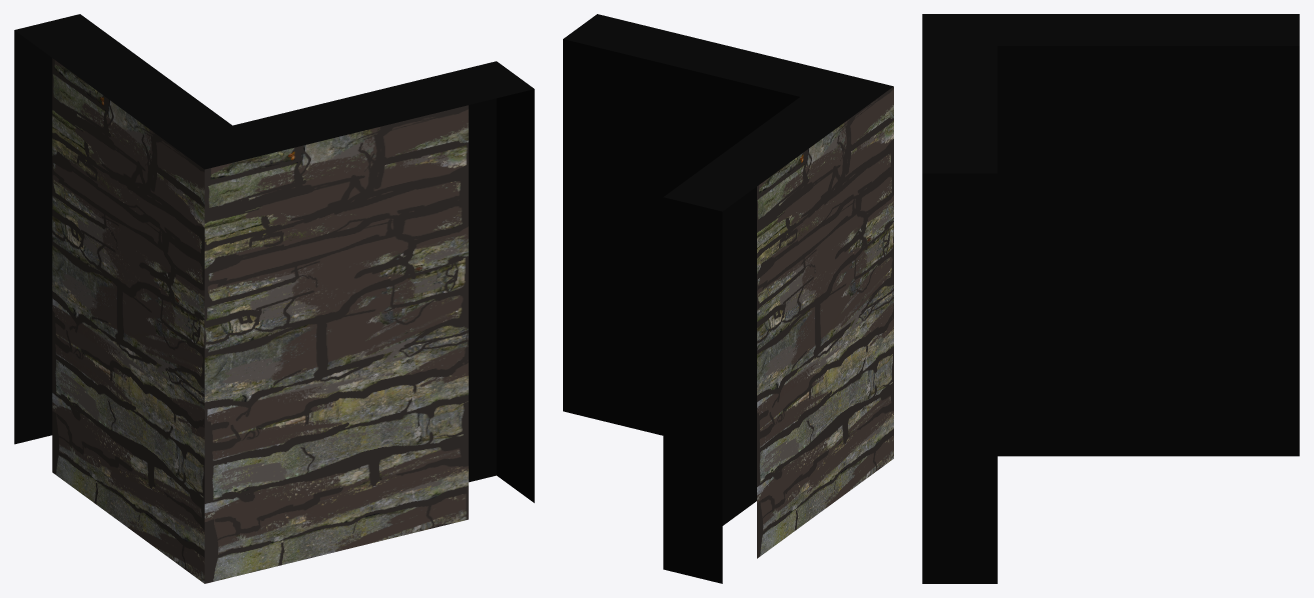
File: room_ecke_innen_a.fbx
The picture shows the model from 3 angles, left to right: view 1: azimuth 30°, elevation 25°; view 2: azimuth 150°, elevation 25°; view 3: azimuth 270°, elevation 25°; orthographic projection. The views are drawn at different scales.
Visible parts, largest first — view 1: ecke_innen; view 2: ecke_innen; view 3: ecke_innen.
Part boxes in pixels (x1=…): ecke_innen: x1=14, y1=14, x2=534, y2=583; ecke_innen: x1=563, y1=14, x2=893, y2=583; ecke_innen: x1=922, y1=14, x2=1299, y2=583.
Size of the model in its own units: 125 by 150 by 125.
Materials: 2 (2 with a texture image).
